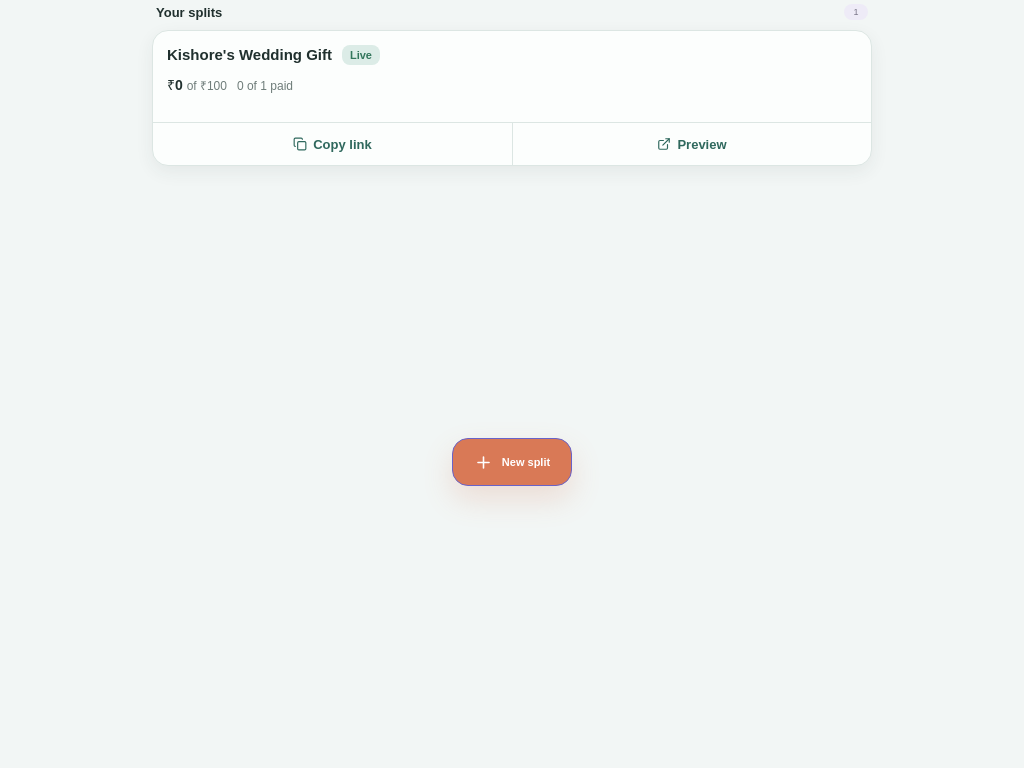
Test: split editor and browser back › returns to the list after opening a split from it
What coordinates should you click on to do the following:
click the button with aria-label "Open Kishore"
I would click on:
 (249, 54)
Its box is [153,31,871,122].
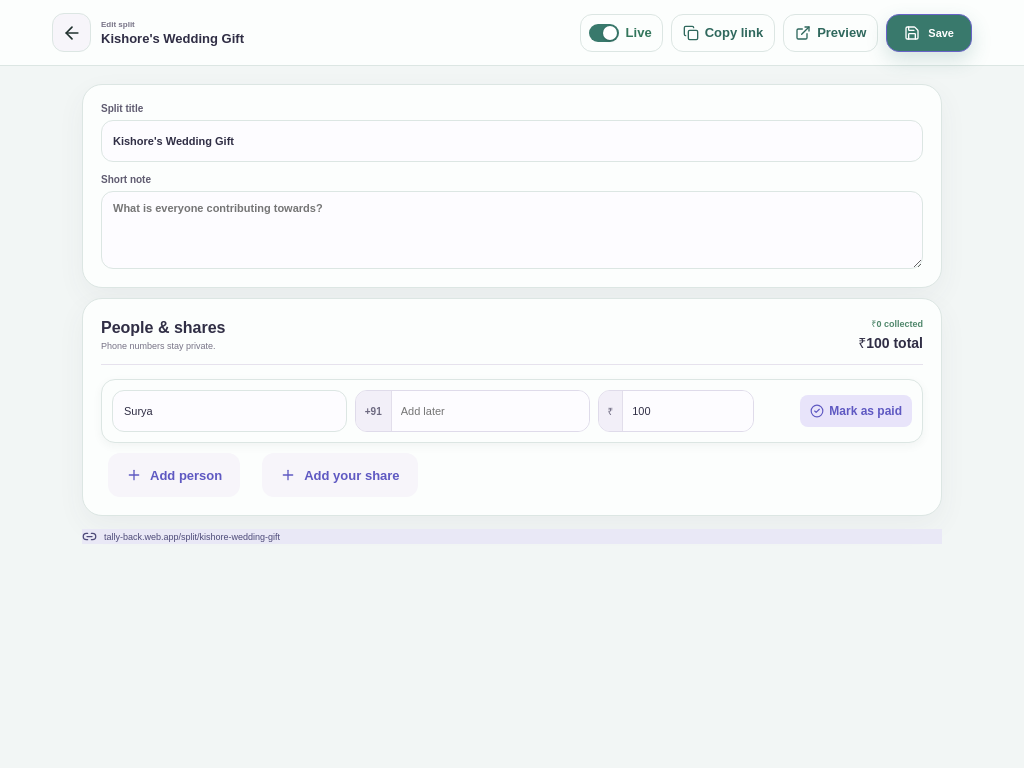
Check: the text "Edit split" is shown, box [101,20,135,28]
